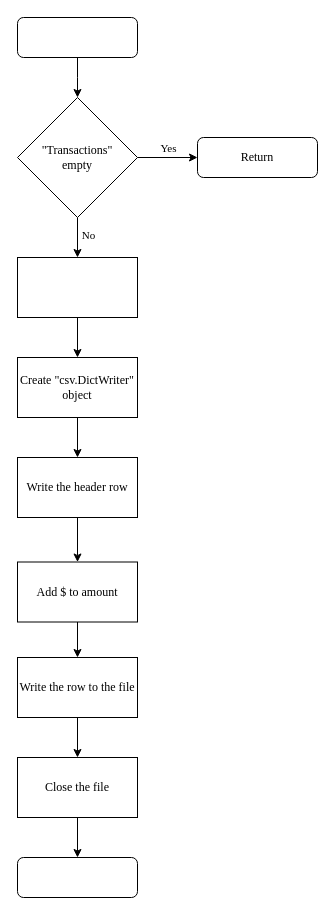
This 335x915 diagram has some shape labels left out. The shapes that lost their labels are listed below. From the top down, each one's centre as x and y in pixels, then its label:
the point at 77,37: Save Transactions
the point at 77,287: Open file in write mode
the point at 77,877: End
